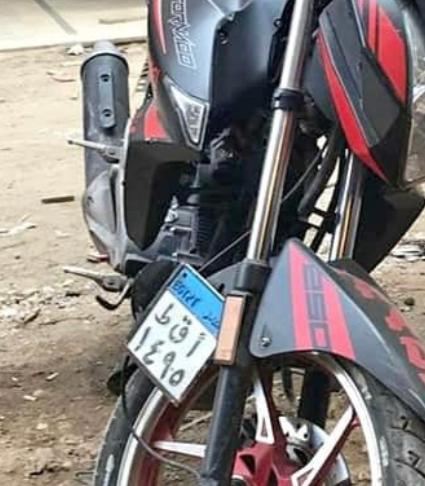License Plate: (125, 262, 233, 396)
